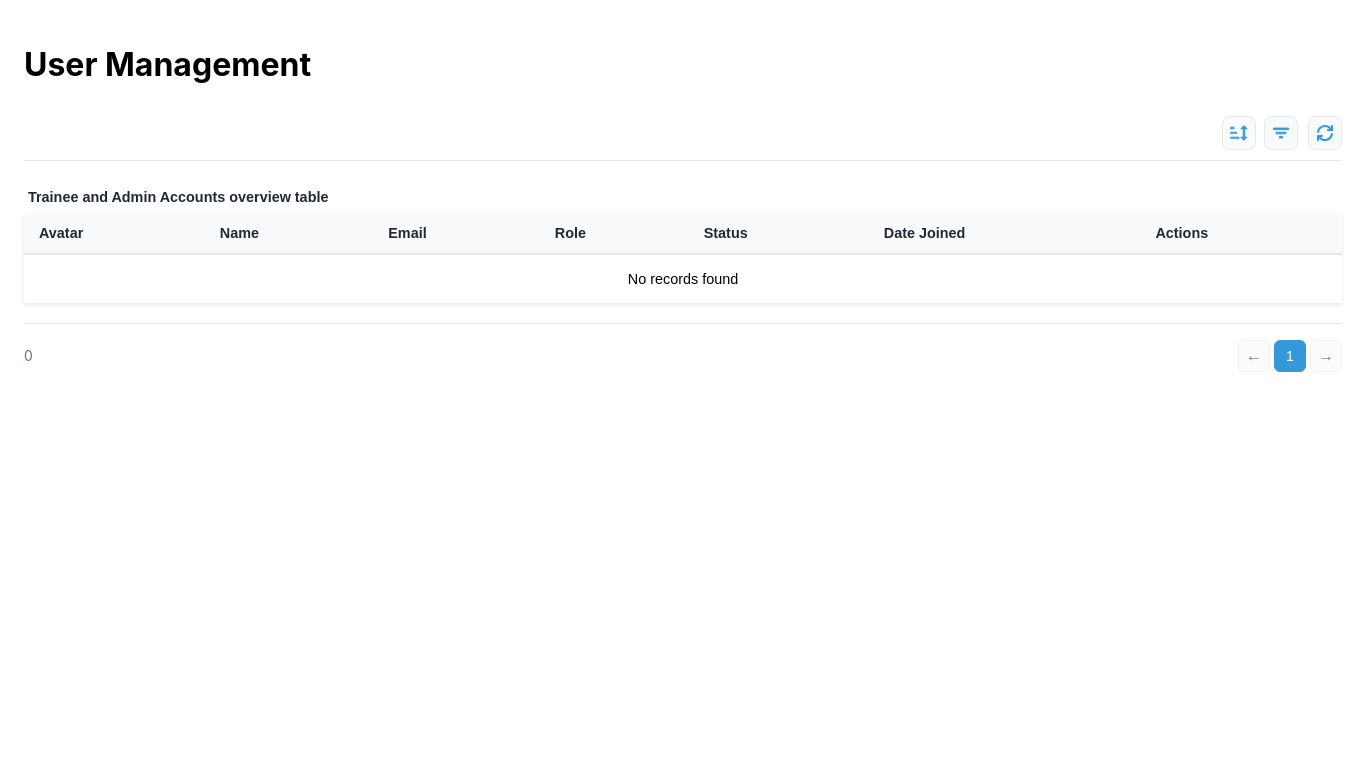
Test case: UsersList (isolated) › opens filter modal
Click the button named "filter" at (1281, 133), box left=1264, top=116, right=1298, bottom=150
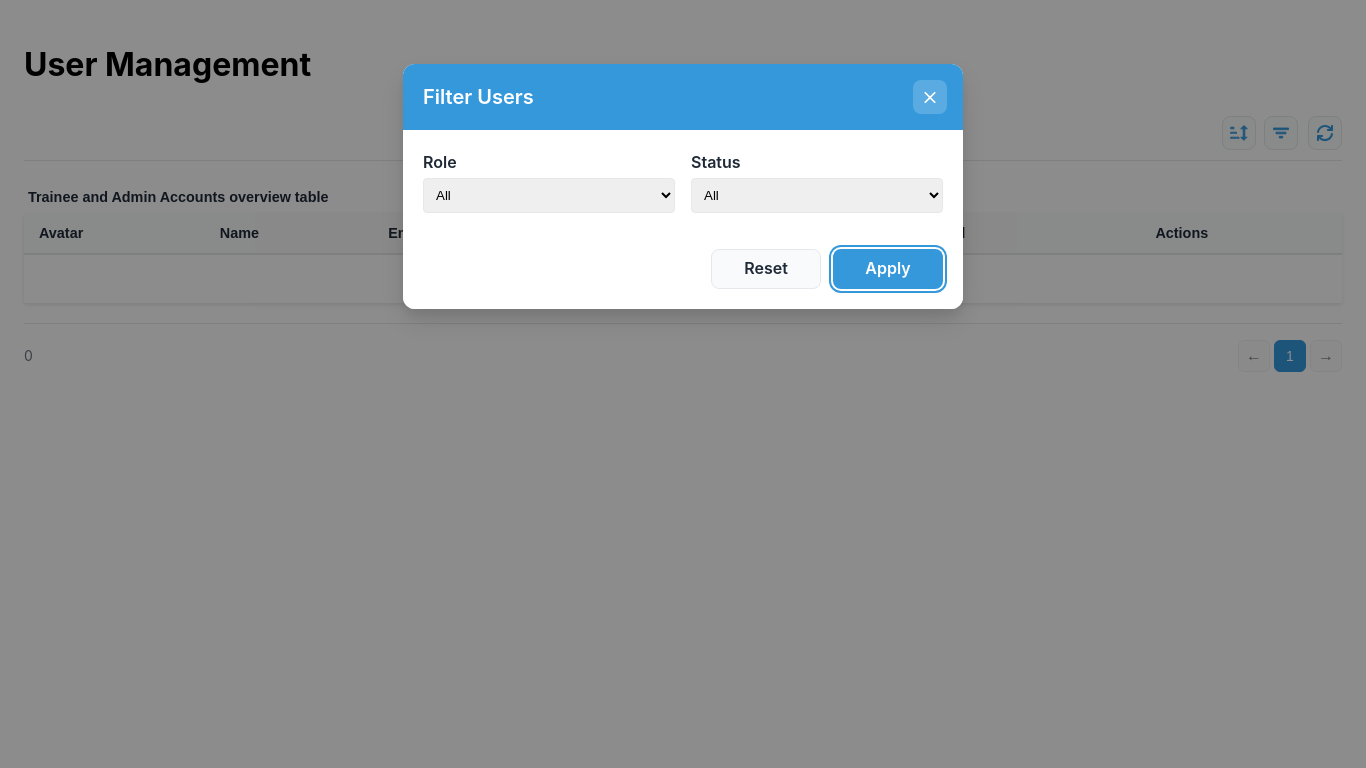
Result: the dialog "Filter Users Role Status Reset Apply" is shown at left=403, top=64, right=963, bottom=309
